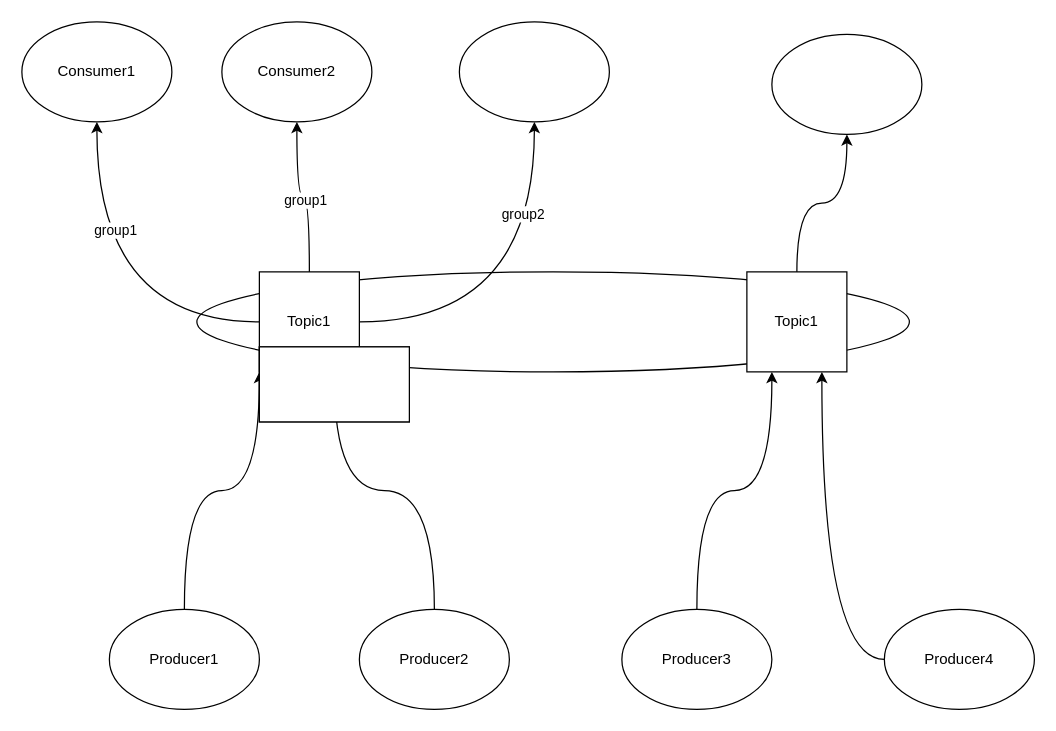
This 1056x731 diagram has some shape labels left out. The shapes that lost their labels are listed below. From the top down, each one's box as (x1, y1, x2, y2) in pixels, then its label:
(458, 21, 609, 122): Consumer3
(771, 33, 922, 134): Consumer4
(196, 271, 909, 372): Simple Broker
